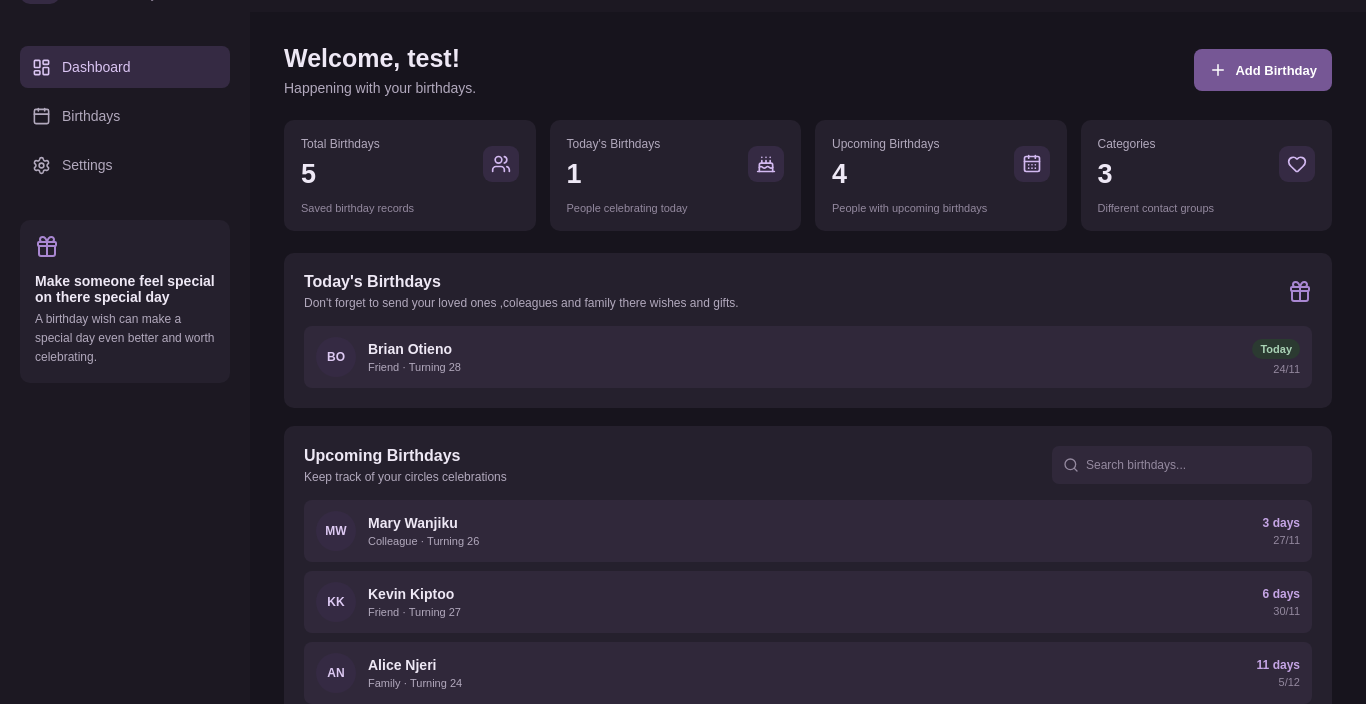
Test: birthday management › adds a birthday and keeps it after the dashboard reloads
Later steps or results of the test are not shown.
Click the button "Add Birthday". click: (1263, 70)
box: left=1194, top=49, right=1332, bottom=91
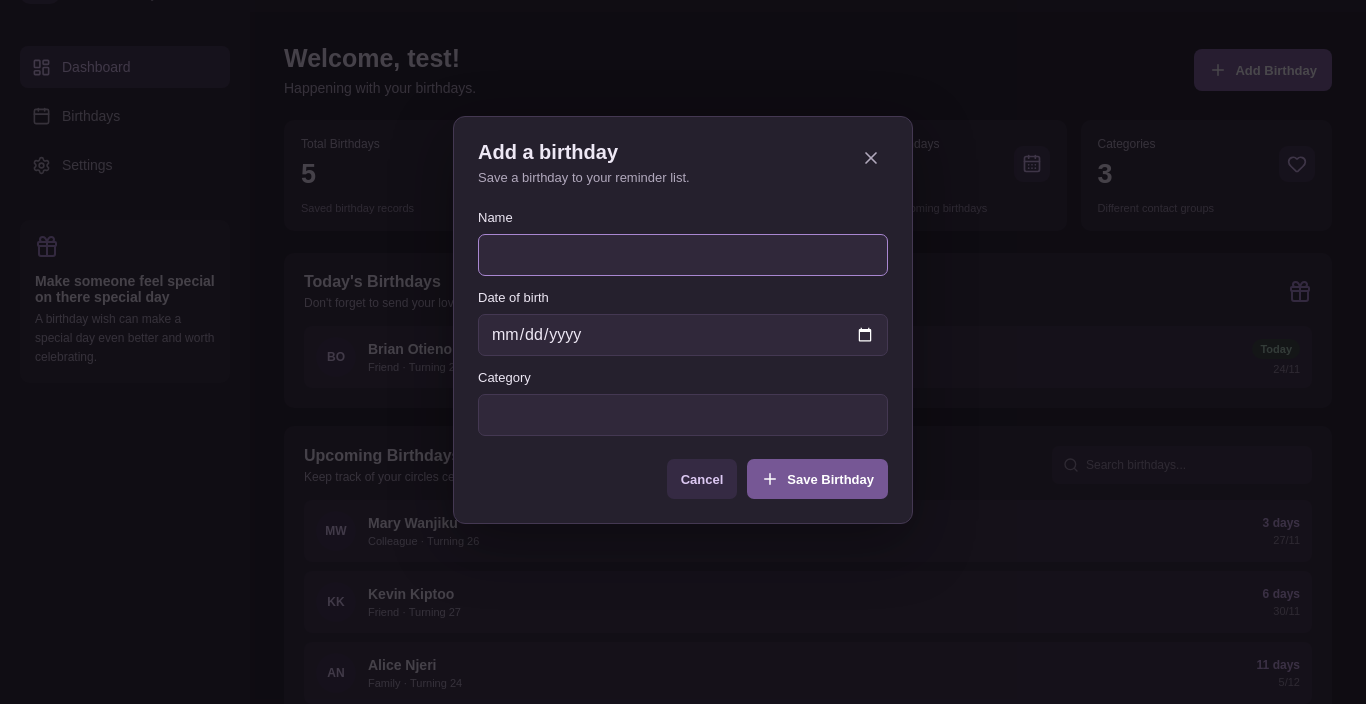
Type "Casey Example" into the field labelled "Name". click: (683, 255)
box: left=478, top=234, right=888, bottom=276
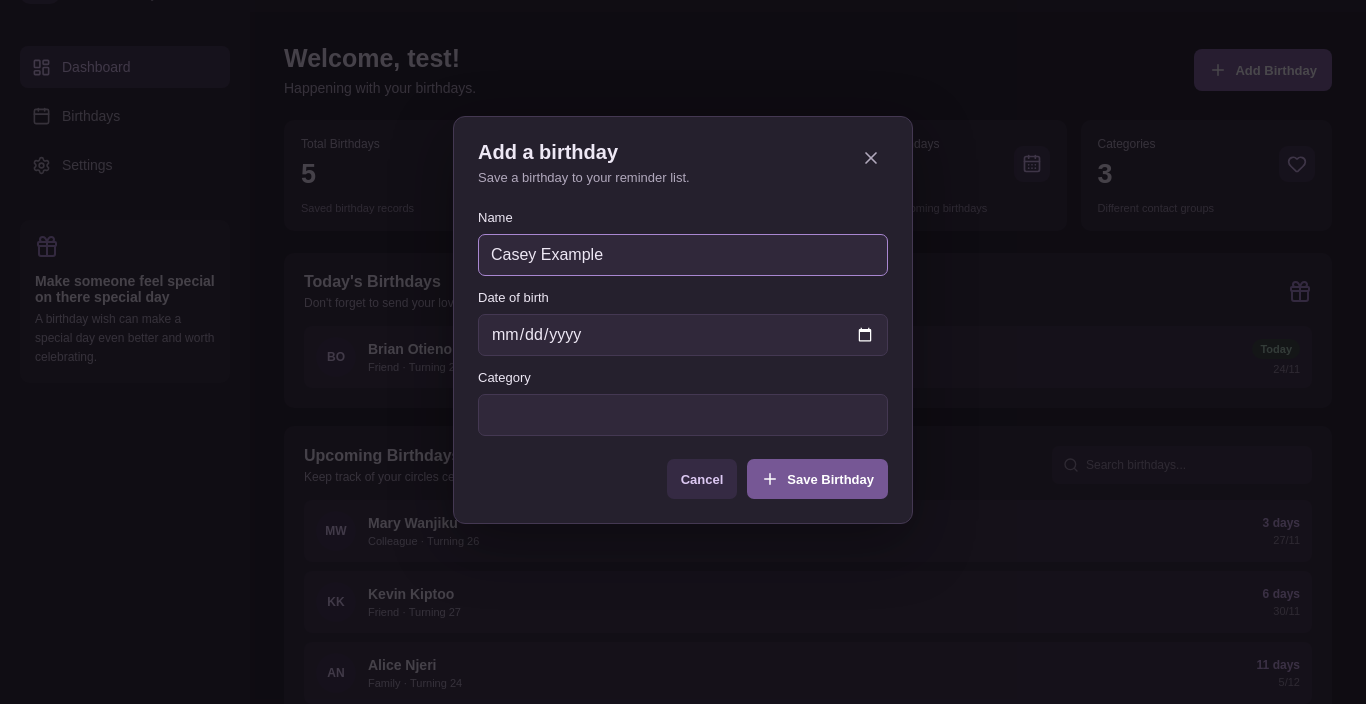
Type "2000-02-14" into the date field labelled "Date of birth". click: (683, 335)
box: left=478, top=314, right=888, bottom=356
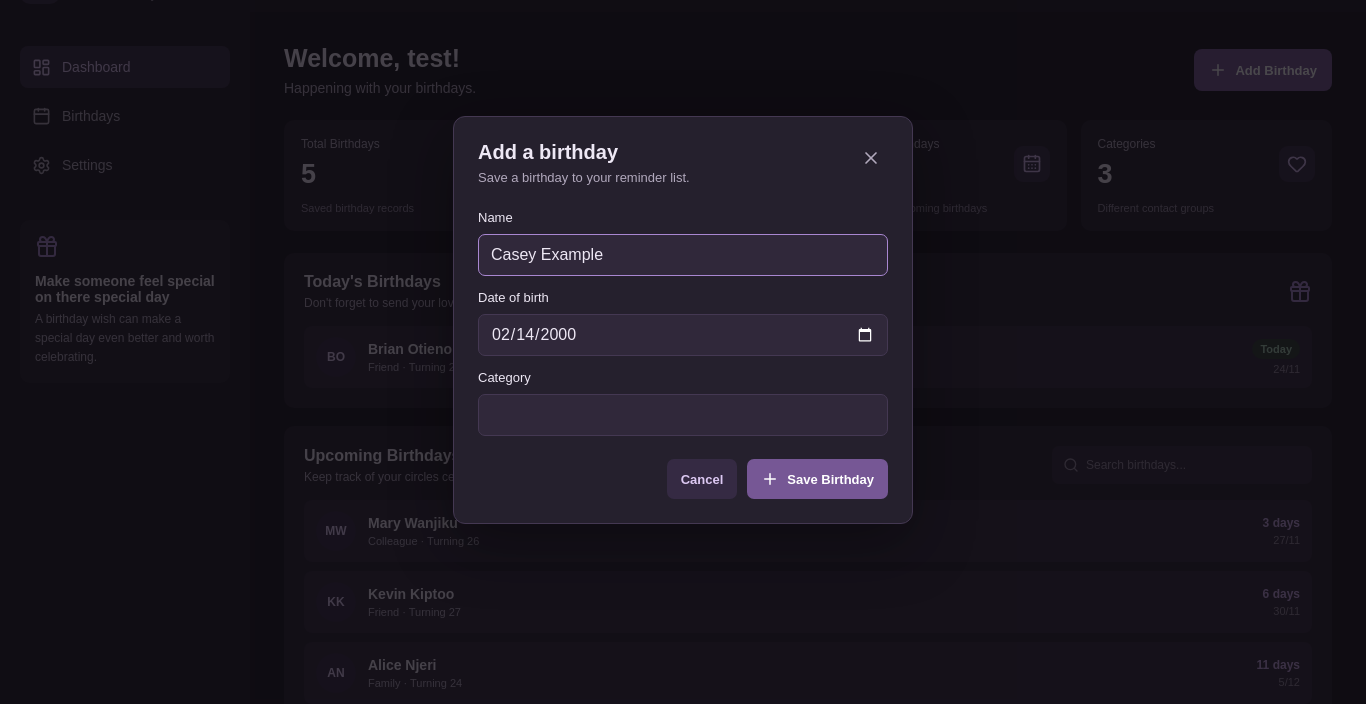
Type "Friend" into the field labelled "Category". click: (683, 415)
box: left=478, top=394, right=888, bottom=436
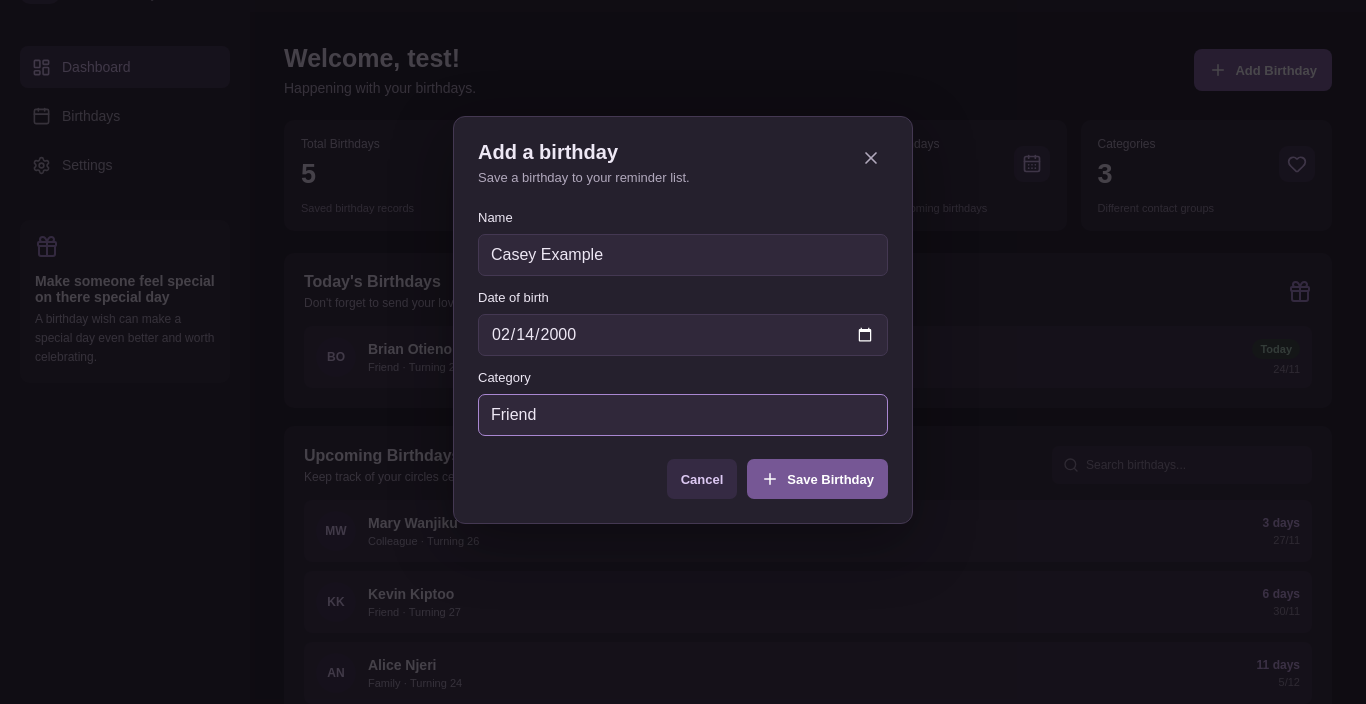
Click the button "Save Birthday". click: (818, 479)
box: left=747, top=459, right=888, bottom=499
(page scrolled)
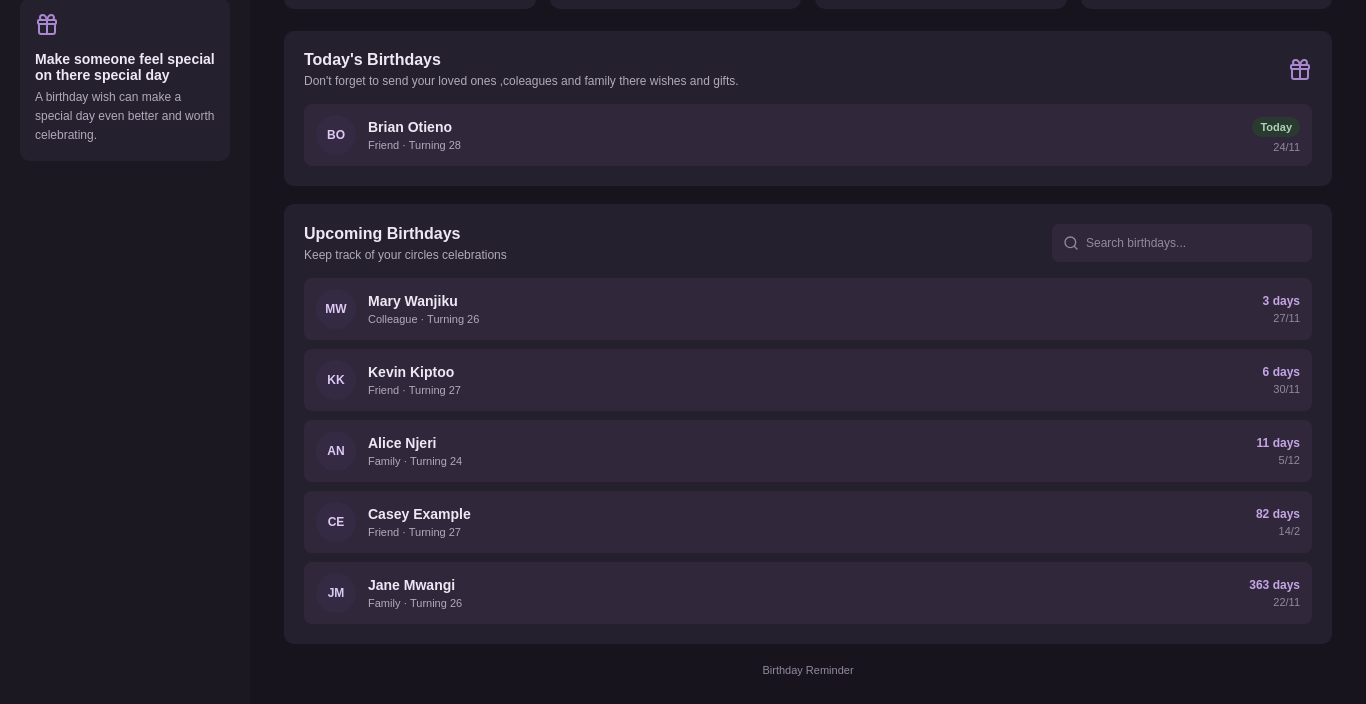
Expected: the heading "Casey Example" is shown, left=368, top=506, right=471, bottom=522
